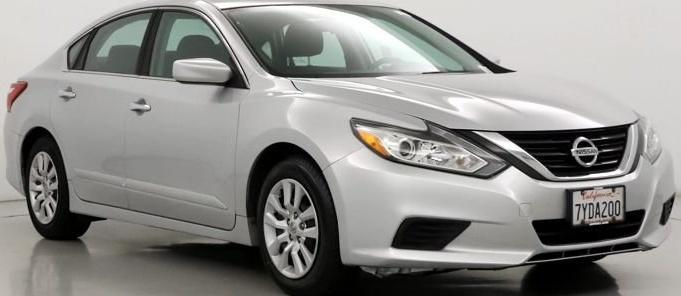Cars: (5, 1, 675, 295)
